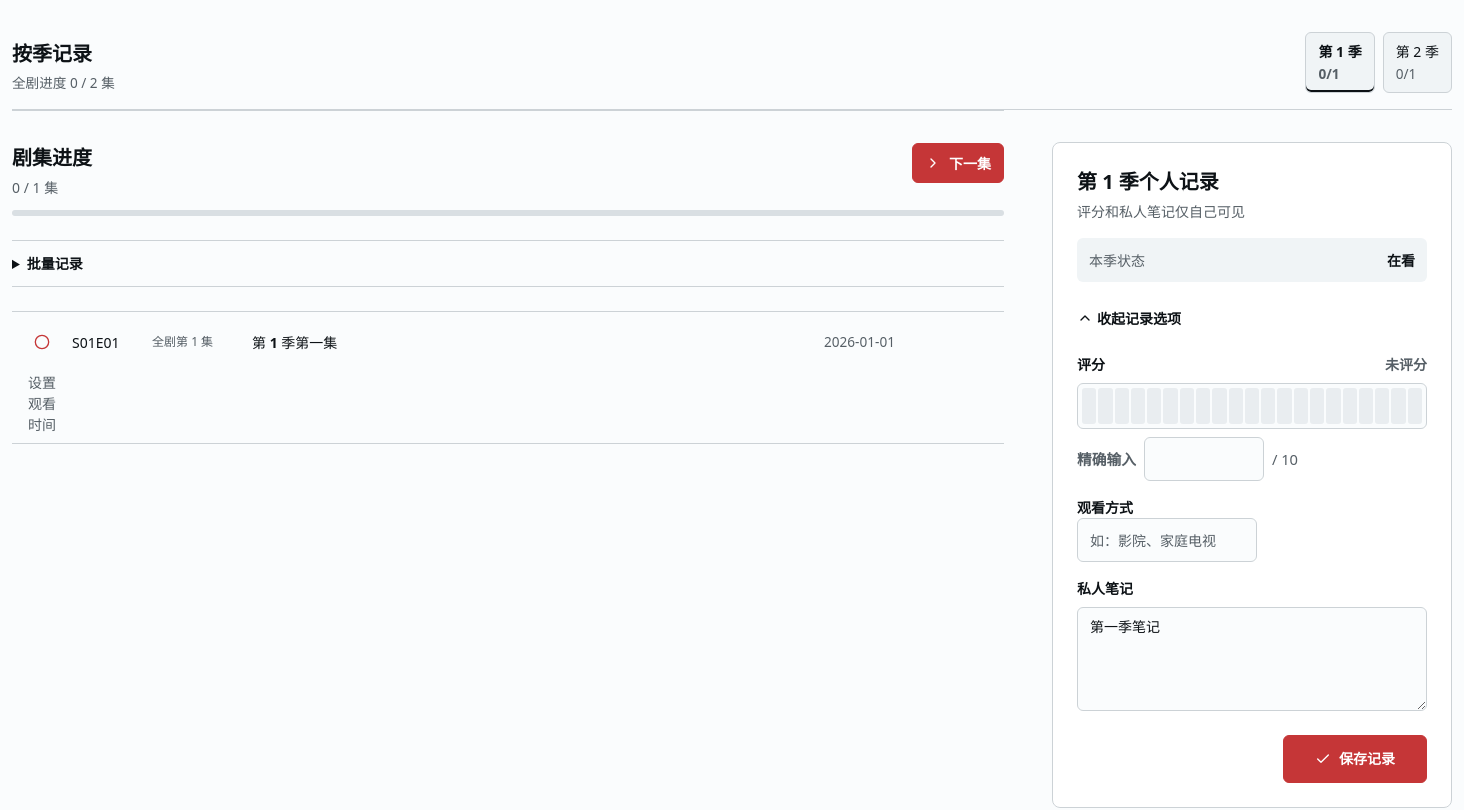
Test: switches progress and private records together while retaining each season cache
expect the heading "第 1 季个人记录" is shown: met, box top-left (1077, 168), bottom-right (1219, 195)
expect the text box labelled "私人笔记" holds "第一季笔记": met, box top-left (1077, 607), bottom-right (1427, 711)
Click the tab "第 2 季 0/1" at (1417, 63), box top-left (1383, 32), bottom-right (1452, 93)
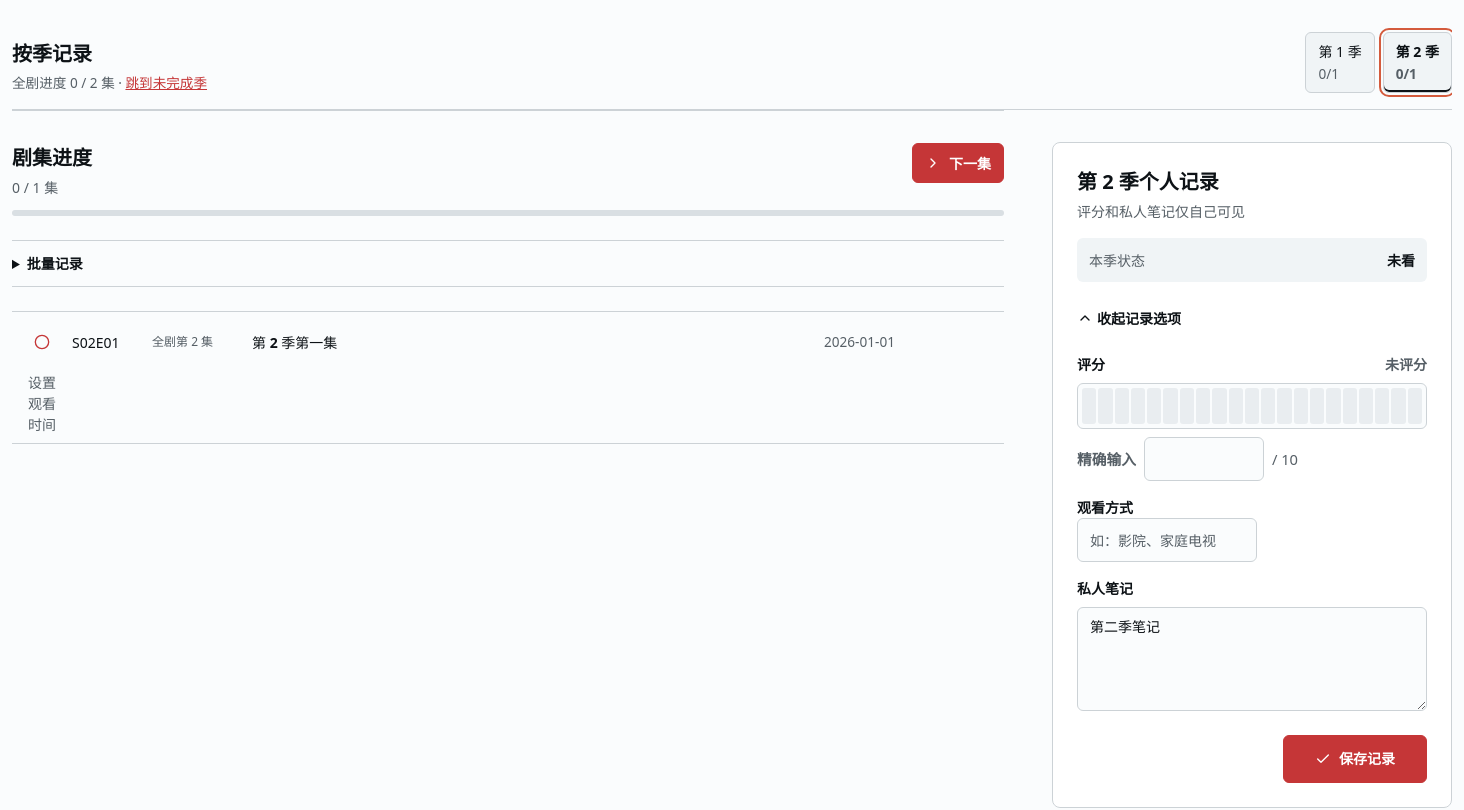
expect the heading "第 2 季个人记录" is shown: met, box top-left (1077, 168), bottom-right (1219, 195)
expect the text box labelled "私人笔记" holds "第二季笔记": met, box top-left (1077, 607), bottom-right (1427, 711)
expect the text "第 2 季第一集" is shown: met, box top-left (252, 333), bottom-right (337, 352)
Click the tab "第 1 季 0/1" at (1340, 63), box top-left (1305, 32), bottom-right (1375, 93)
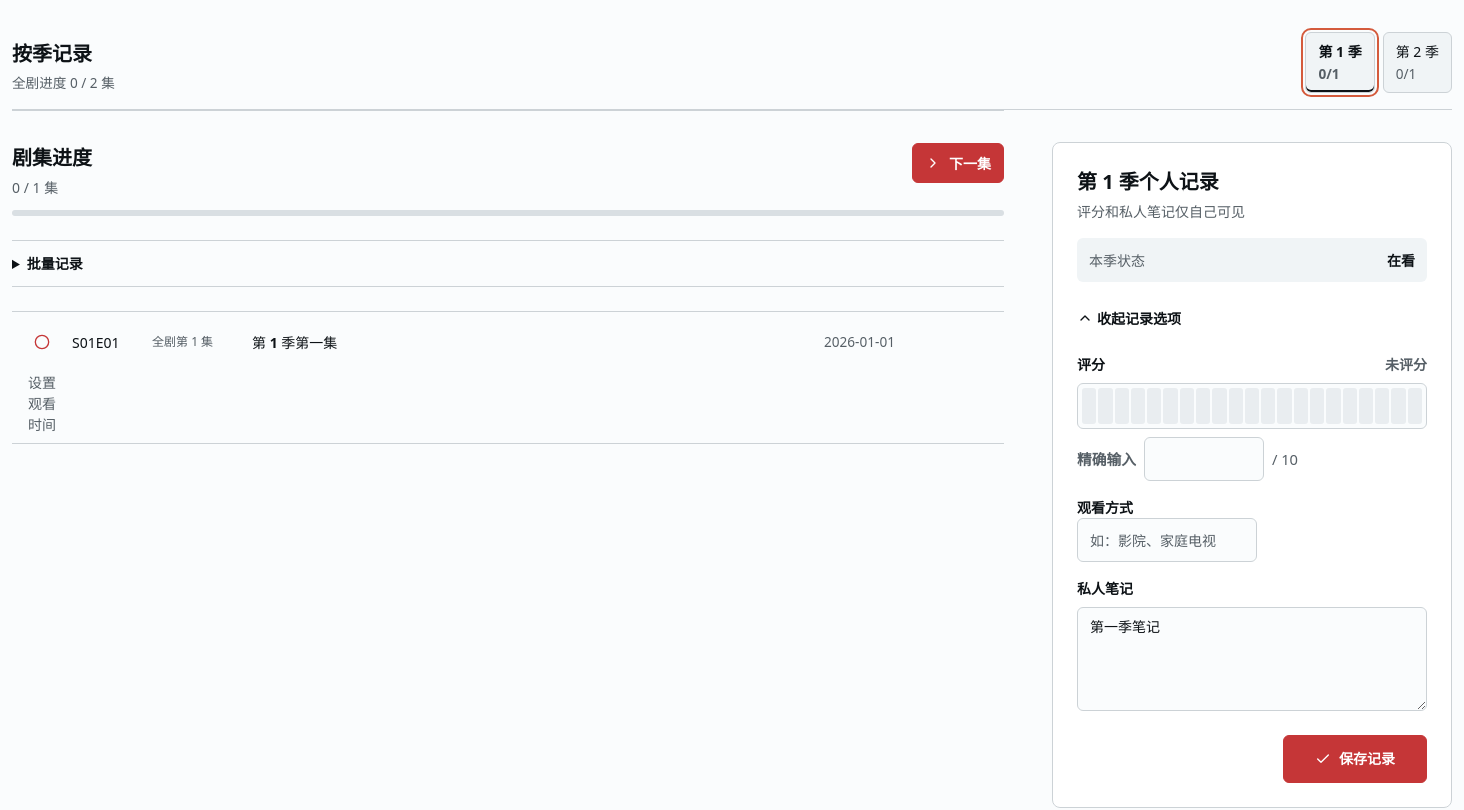
expect the text "第 1 季第一集" is shown: met, box top-left (252, 333), bottom-right (337, 352)
